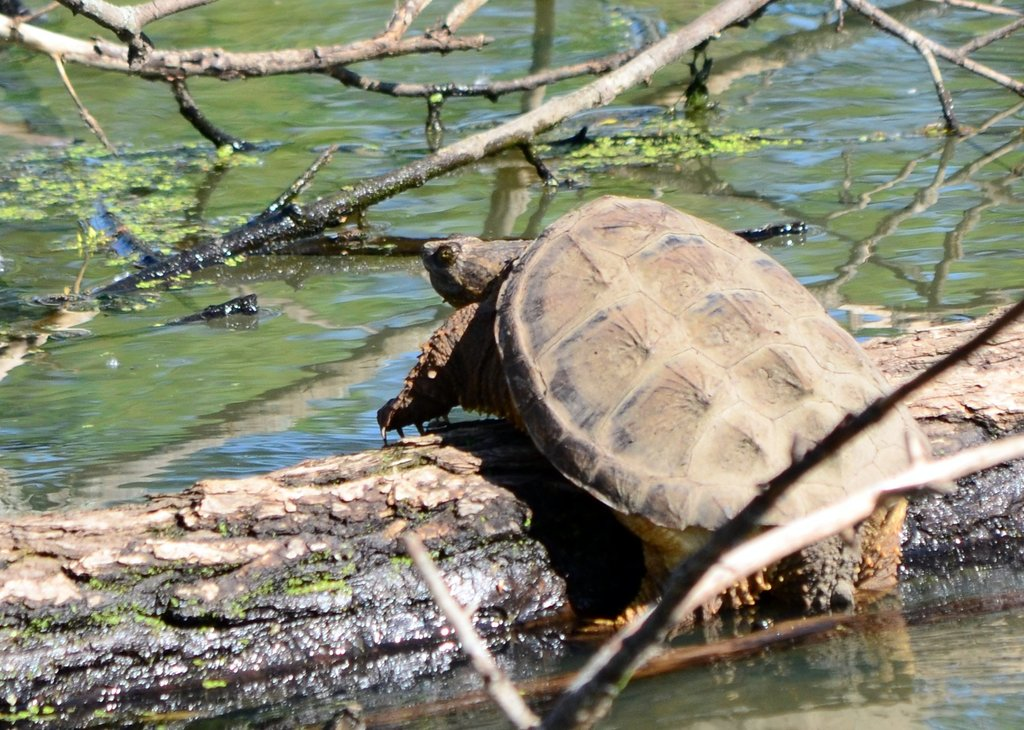Sea turtles: (363, 191, 932, 648)
